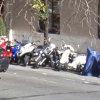Motorcycle: (15, 37, 68, 71)
